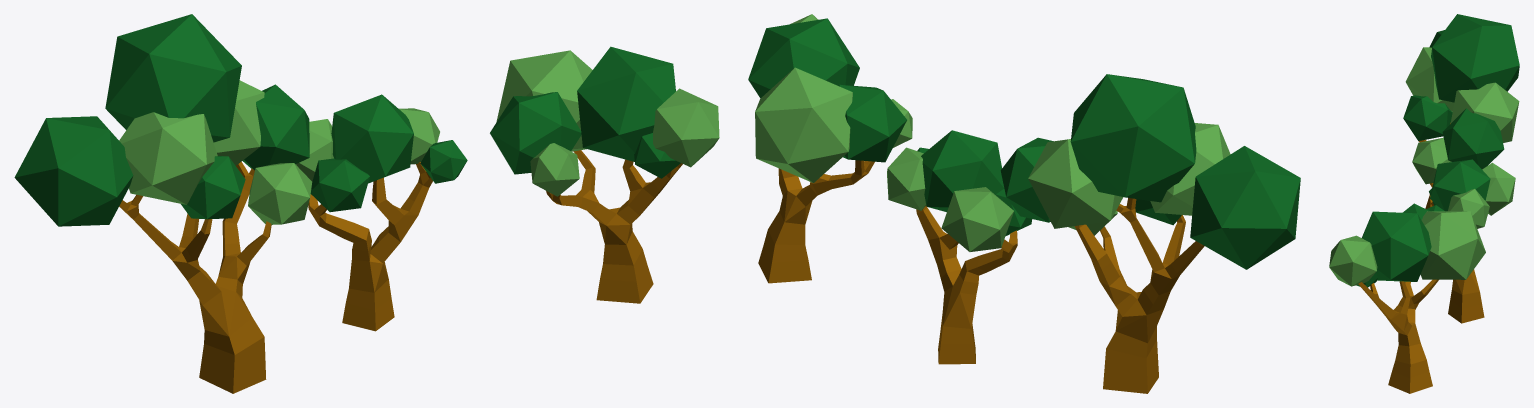
File: tree.glb
3 renders of one model, left to right at view 1: azimuth 30°, elevation 25°; view 2: azimuth 150°, elevation 25°; view 3: azimuth 270°, elevation 25°, orthographic. The views are drawn at different scales.
Visible parts, largest first — view 1: Icosphere.013, Cube.002, Icosphere.011, Icosphere.008, Cube, Icosphere.012, Cube.001, Icosphere.001, Icosphere.006, Icosphere.009, Icosphere.007, Icosphere.017 (+9 smaller); view 2: Icosphere.013, Icosphere.011, Cube.002, Icosphere.007, Cube, Icosphere.008, Cube.001, Icosphere.015, Icosphere.001, Icosphere.006, Icosphere.004, Icosphere.012 (+4 smaller); view 3: Icosphere.013, Icosphere.008, Icosphere.007, Cube.001, Icosphere.017, Icosphere.015, Icosphere.001, Icosphere.009, Icosphere.014, Cube, Icosphere.012, Icosphere.004 (+3 smaller).
Boxes of the visible parts, left/top/right/bottom form: Icosphere.013: left=105, top=14, right=241, bottom=142; Cube.002: left=119, top=161, right=271, bottom=393; Icosphere.011: left=14, top=116, right=133, bottom=226; Icosphere.008: left=577, top=46, right=675, bottom=161; Cube: left=308, top=162, right=432, bottom=331; Icosphere.012: left=119, top=112, right=217, bottom=204; Cube.001: left=546, top=150, right=682, bottom=303; Icosphere.001: left=331, top=94, right=413, bottom=183; Icosphere.006: left=490, top=92, right=581, bottom=174; Icosphere.009: left=653, top=88, right=719, bottom=167; Icosphere.007: left=496, top=50, right=592, bottom=151; Icosphere.017: left=242, top=84, right=309, bottom=170; Icosphere.013: left=1070, top=74, right=1196, bottom=202; Icosphere.011: left=1190, top=146, right=1300, bottom=269; Cube.002: left=1074, top=198, right=1204, bottom=393; Icosphere.007: left=755, top=67, right=852, bottom=182; Cube: left=916, top=206, right=1017, bottom=364; Icosphere.008: left=748, top=18, right=859, bottom=98; Cube.001: left=758, top=160, right=874, bottom=283; Icosphere.015: left=1028, top=139, right=1123, bottom=228; Icosphere.001: left=921, top=130, right=1004, bottom=212; Icosphere.006: left=839, top=84, right=906, bottom=162; Icosphere.004: left=941, top=187, right=1013, bottom=251; Icosphere.012: left=1150, top=123, right=1230, bottom=215; Icosphere.013: left=1431, top=14, right=1519, bottom=102; Icosphere.008: left=1362, top=211, right=1431, bottom=281; Icosphere.007: left=1420, top=211, right=1485, bottom=279; Cube.001: left=1358, top=279, right=1438, bottom=393; Icosphere.017: left=1442, top=108, right=1504, bottom=169; Icosphere.015: left=1450, top=82, right=1519, bottom=142; Icosphere.001: left=1430, top=159, right=1490, bottom=211; Icosphere.009: left=1329, top=235, right=1377, bottom=286; Icosphere.014: left=1403, top=95, right=1452, bottom=140; Cube: left=1448, top=269, right=1484, bottom=323; Icosphere.012: left=1405, top=47, right=1454, bottom=111; Icosphere.004: left=1482, top=162, right=1515, bottom=215.
Size of the model in its own units: 28.2 by 15.09 by 10.96.
